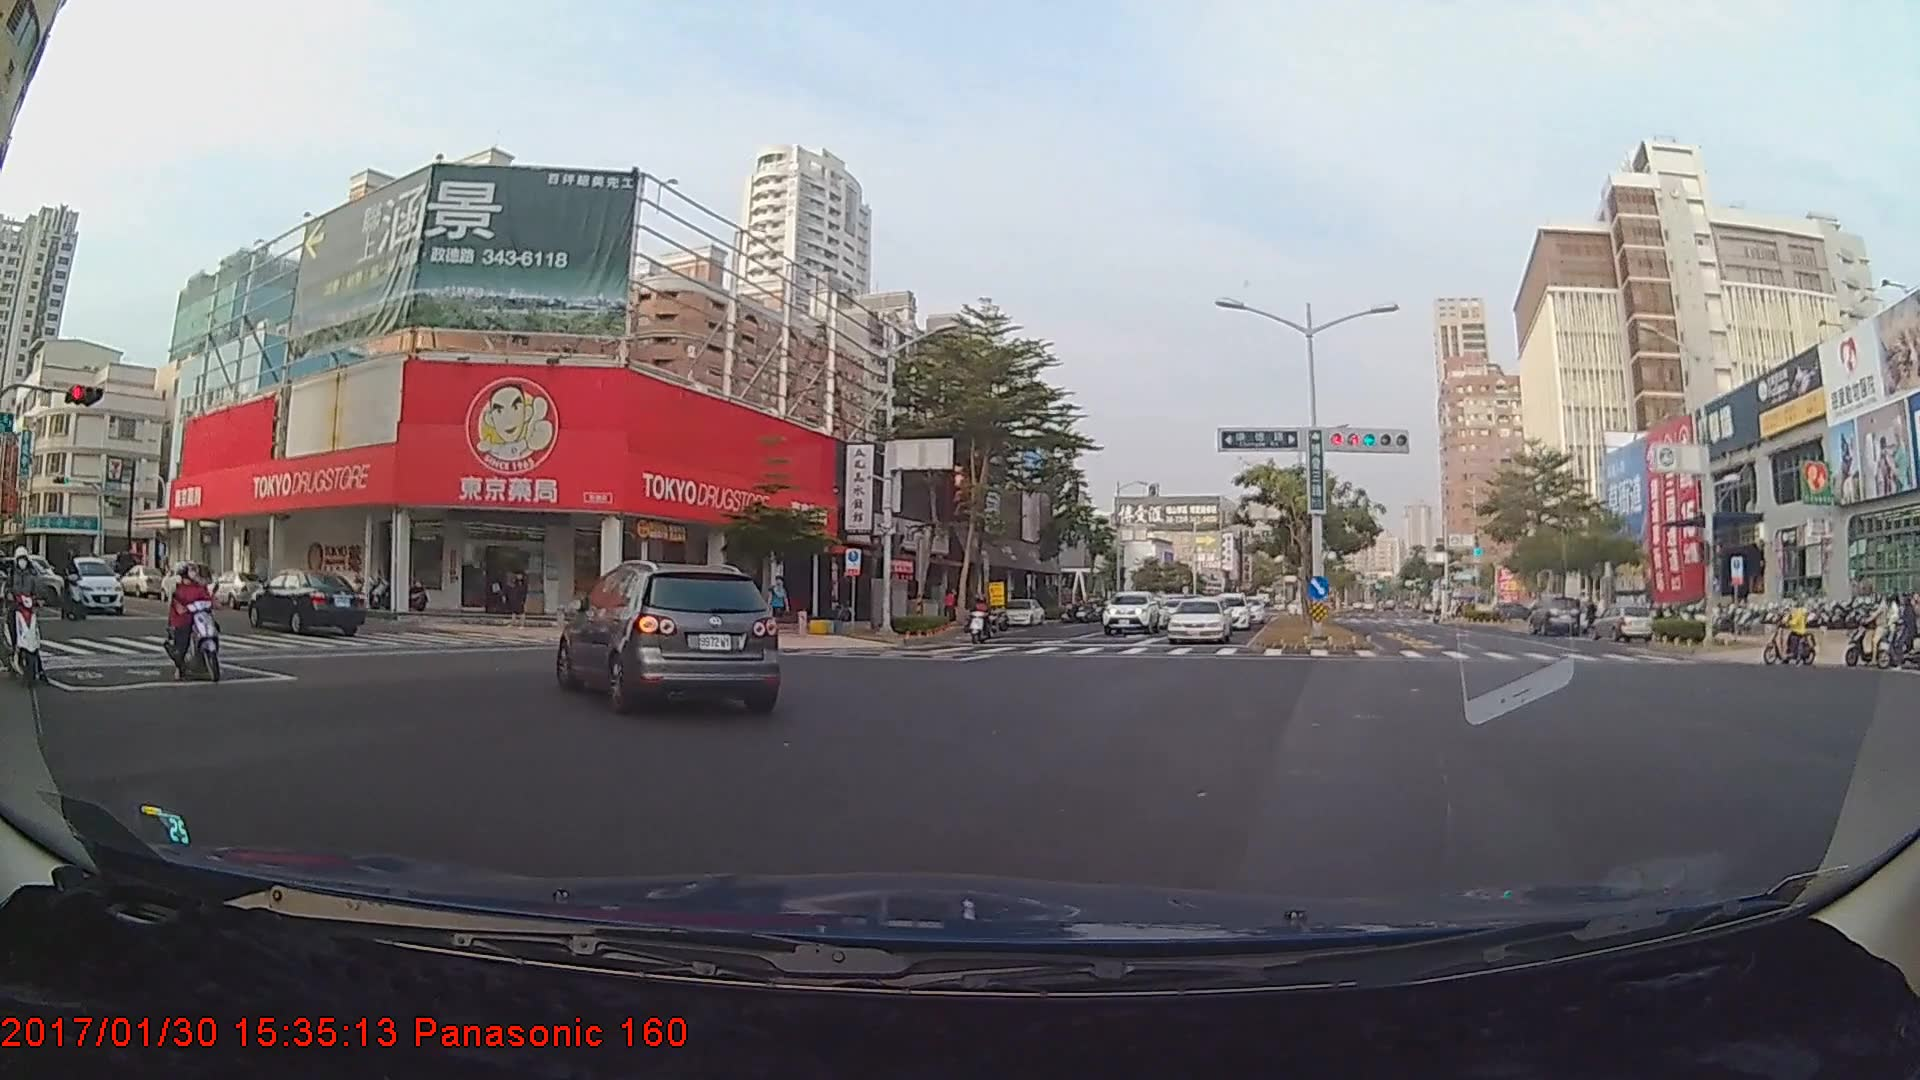pedestrian: (766, 572, 792, 643)
rider: (164, 561, 229, 683), (7, 549, 50, 687), (966, 586, 996, 641)
vehicle: (560, 560, 779, 714), (249, 570, 367, 637), (62, 555, 124, 612), (1164, 593, 1227, 639), (1101, 588, 1159, 634), (1526, 593, 1581, 634), (1207, 589, 1249, 630), (996, 600, 1038, 627)
